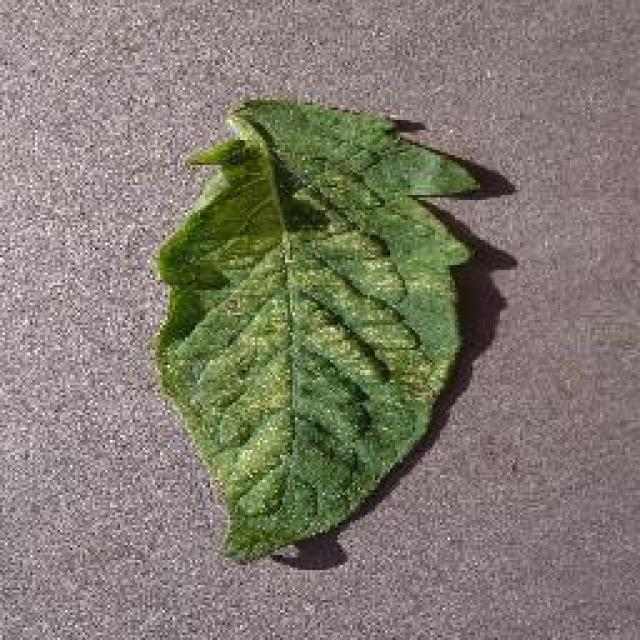Tomato___Spider_mites Two-spotted_spider_mite: (155, 100, 480, 558)
